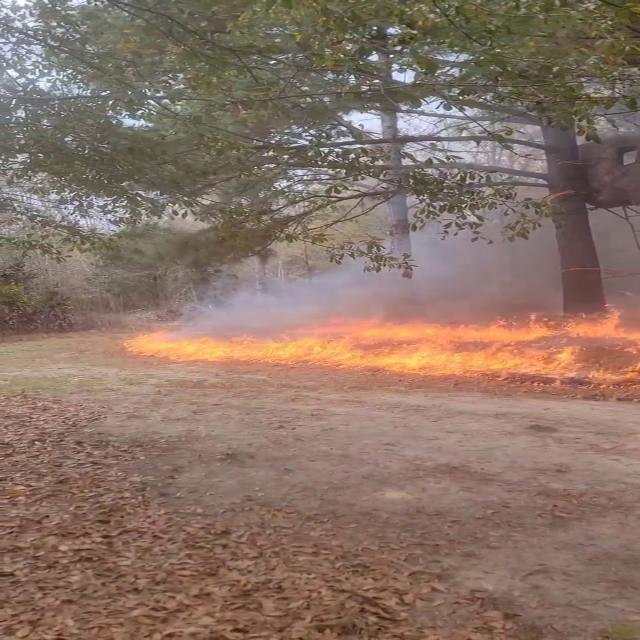Fire: (125, 312, 638, 376)
